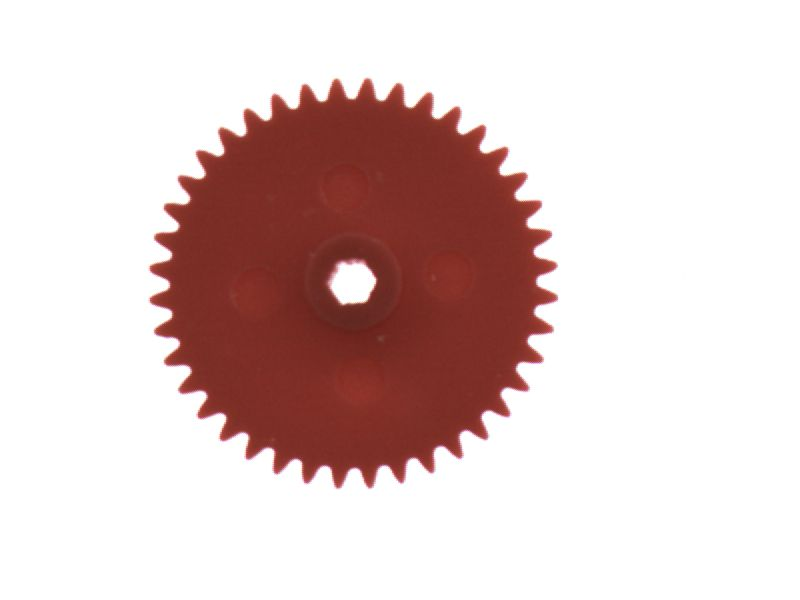good_product: (136, 65, 573, 502)
